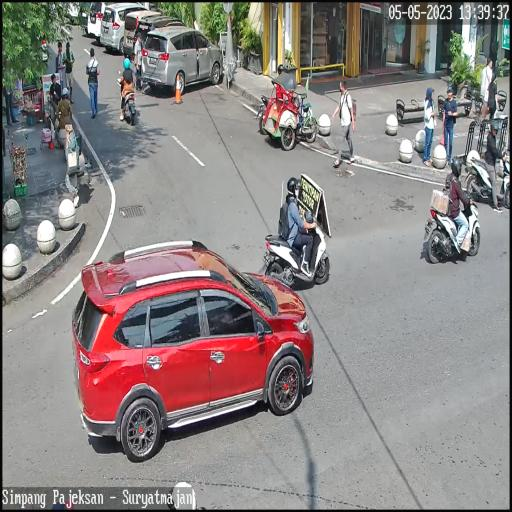mobil: (74, 241, 314, 461), (142, 24, 225, 95)
motor: (261, 217, 328, 287), (424, 185, 480, 267), (469, 147, 512, 217), (117, 68, 139, 126)
